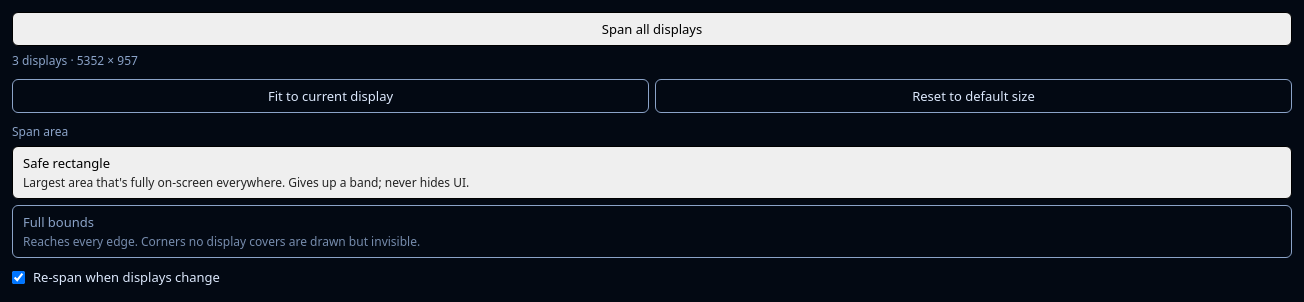
WindowSpanControls › switching span area changes the reported target
This screenshot has width=1304, height=302.
Expected: the text "3 displays · 5352 × 957" is shown, [12,52,138,69]
What coordinates should you click on to do the following:
click the button "Full bounds"
I would click on:
 (59, 222)
Its box is [12,205,1292,258].
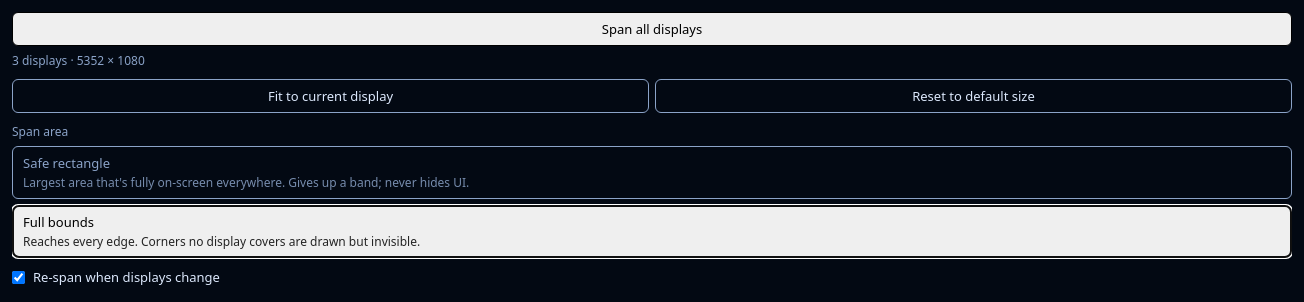
Result: the text "3 displays · 5352 × 1080" is shown at [12,52,145,69]
